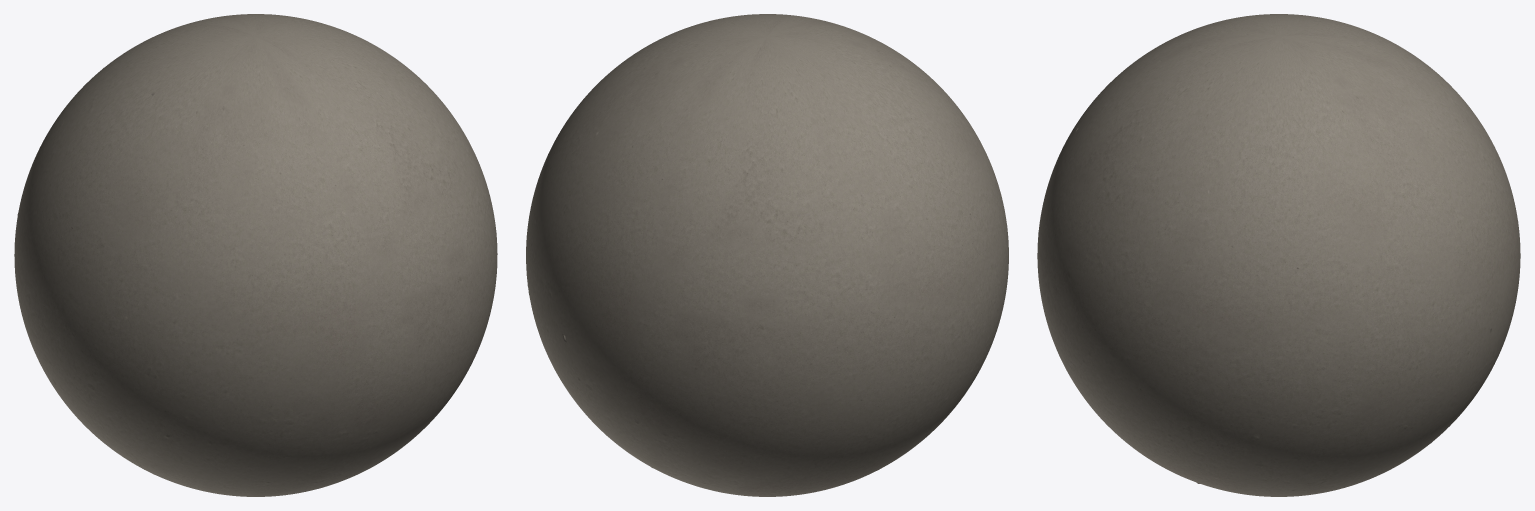
File: moon_flat_macro_02_1k.gltf
The picture shows the model from 3 angles, left to right: view 1: azimuth 30°, elevation 25°; view 2: azimuth 150°, elevation 25°; view 3: azimuth 270°, elevation 25°; orthographic projection.
Parts seen in each view (by area): view 1: sphere_gltf; view 2: sphere_gltf; view 3: sphere_gltf.
Boxes of the visible parts, box(x1,y1,x2,y2) form: sphere_gltf: box(14, 14, 497, 496); sphere_gltf: box(526, 14, 1008, 496); sphere_gltf: box(1037, 14, 1520, 496).
Size of the model in its own units: 0.3978 by 0.3977 by 0.3978.
1 material, 1 textured.
